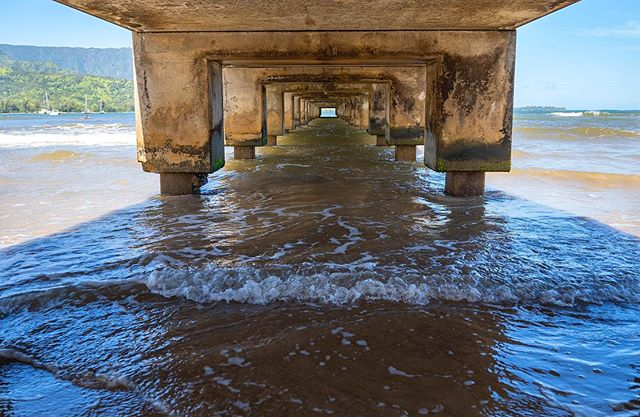sea: (1, 111, 640, 417)
sky: (519, 1, 640, 105)
vegetation: (1, 51, 132, 112)
